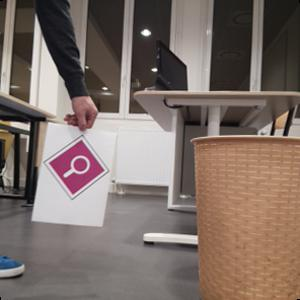medium: (191, 137, 300, 300)
